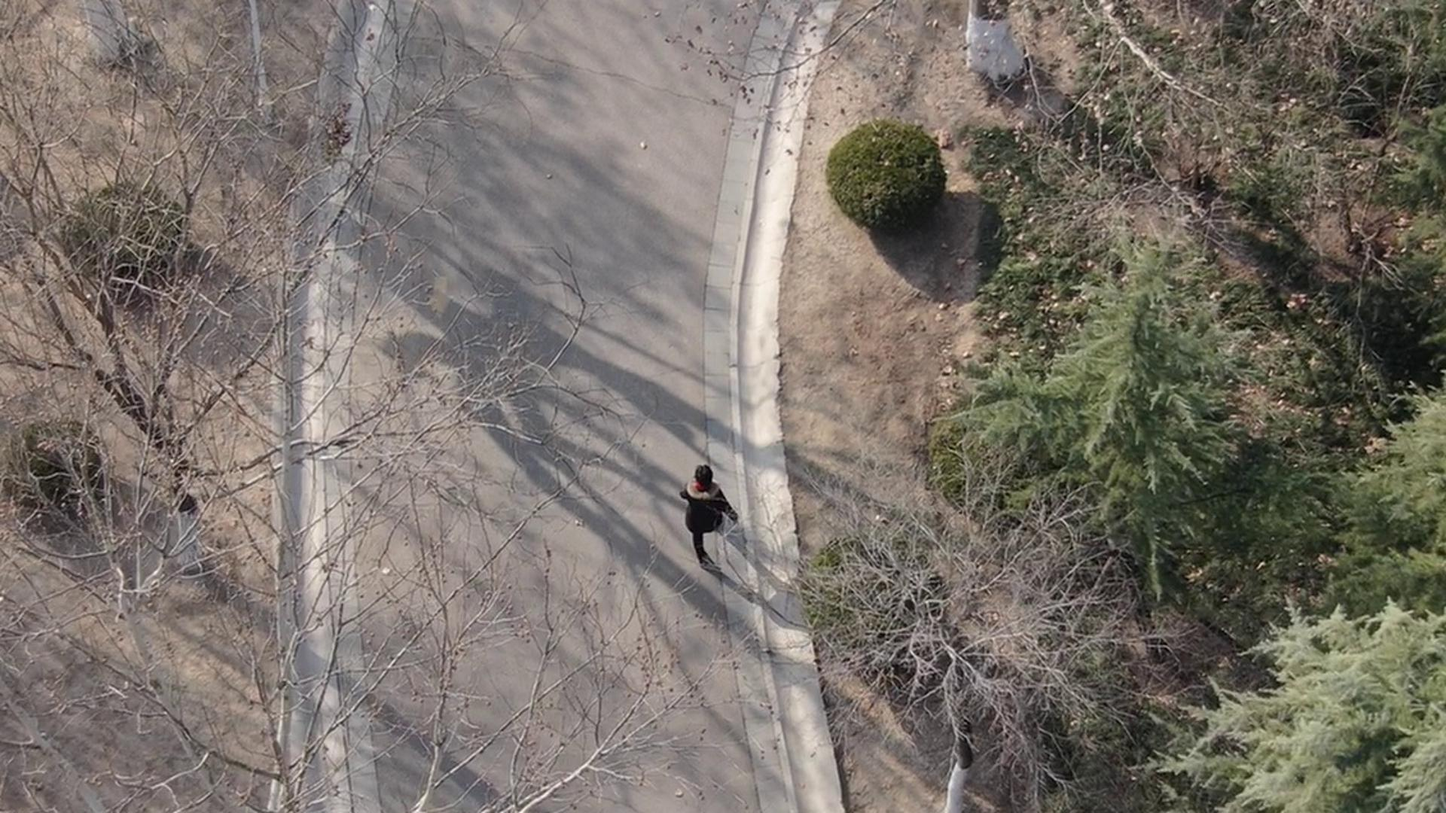human: (698, 455, 756, 556)
